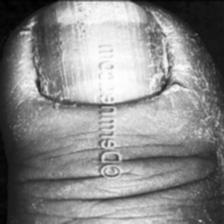Toxin: (33, 0, 173, 109)
